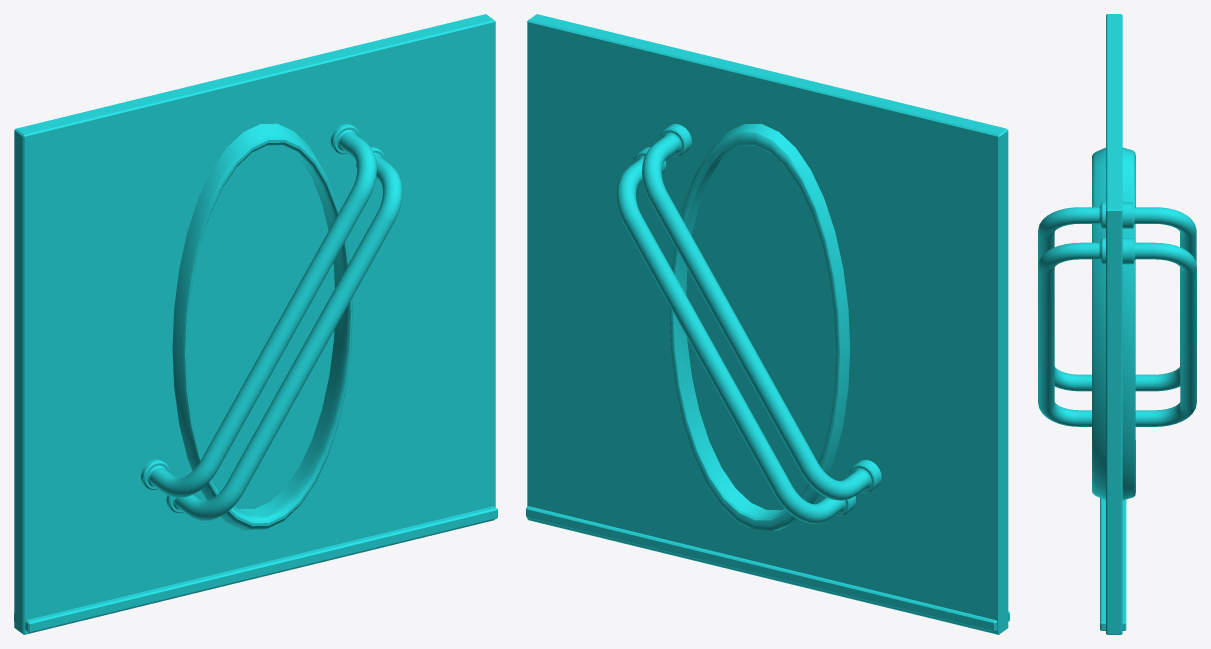
File: Porta_esquerda.001.fbx
3 renders of one model, left to right at view 1: azimuth 30°, elevation 25°; view 2: azimuth 150°, elevation 25°; view 3: azimuth 270°, elevation 25°, orthographic. The views are drawn at different scales.
Parts seen in each view (by area): view 1: Porta_esquerda.001; view 2: Porta_esquerda.001; view 3: Porta_esquerda.001.
Boxes of the visible parts, x1,y1,x2,y2 form: Porta_esquerda.001: (14,14,497,634); Porta_esquerda.001: (526,14,1009,634); Porta_esquerda.001: (1038,14,1196,634).
Bounding box in the file's own units: 361 × 365 × 123.
